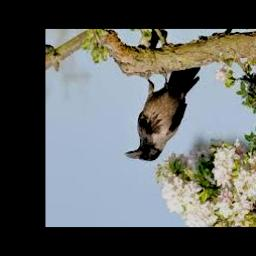Crow: (127, 70, 202, 161)
